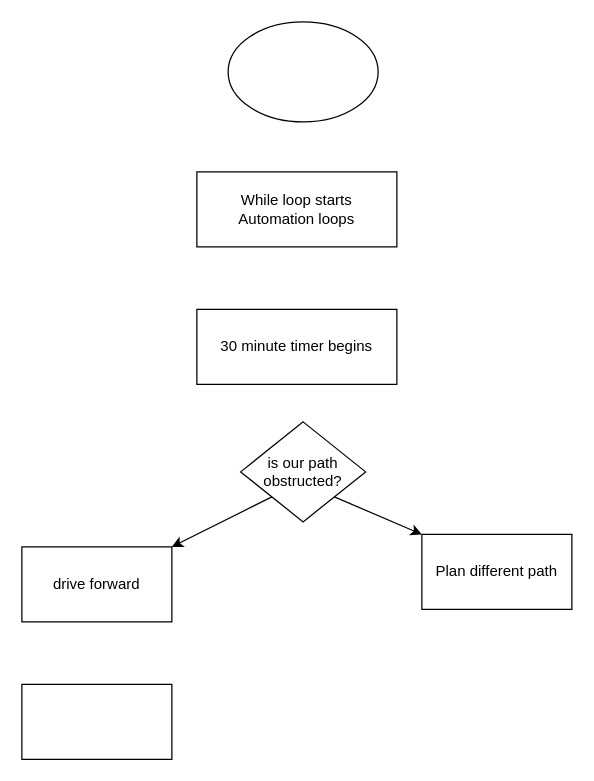
Image size: 594x781. Some labels were removed from this diagram. Each missing label, with the box of its shape:
arrive at digsite: (21, 683, 172, 759)
Start Rover: (227, 21, 378, 122)
